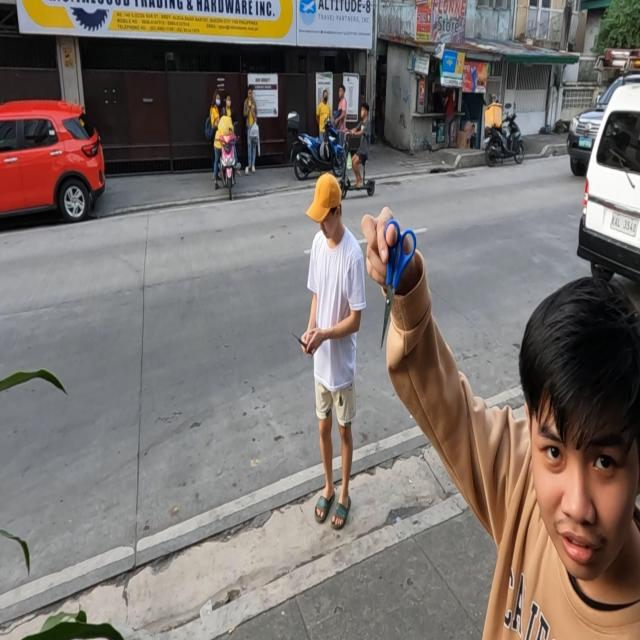scissor: (378, 220, 416, 348)
